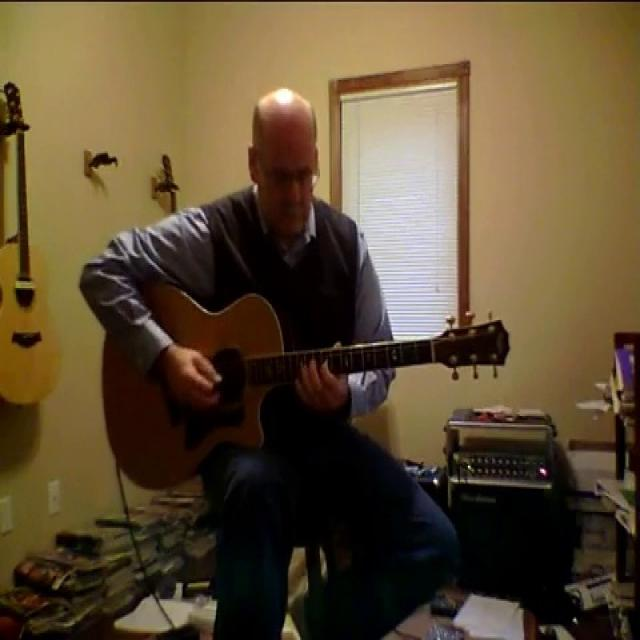Guitar: (98, 279, 518, 506)
